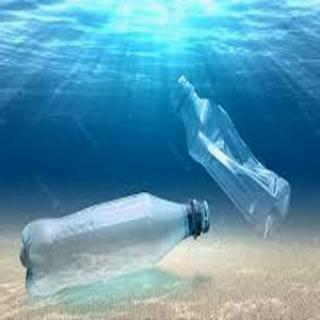Plastic: (21, 189, 210, 294), (173, 72, 293, 237)
